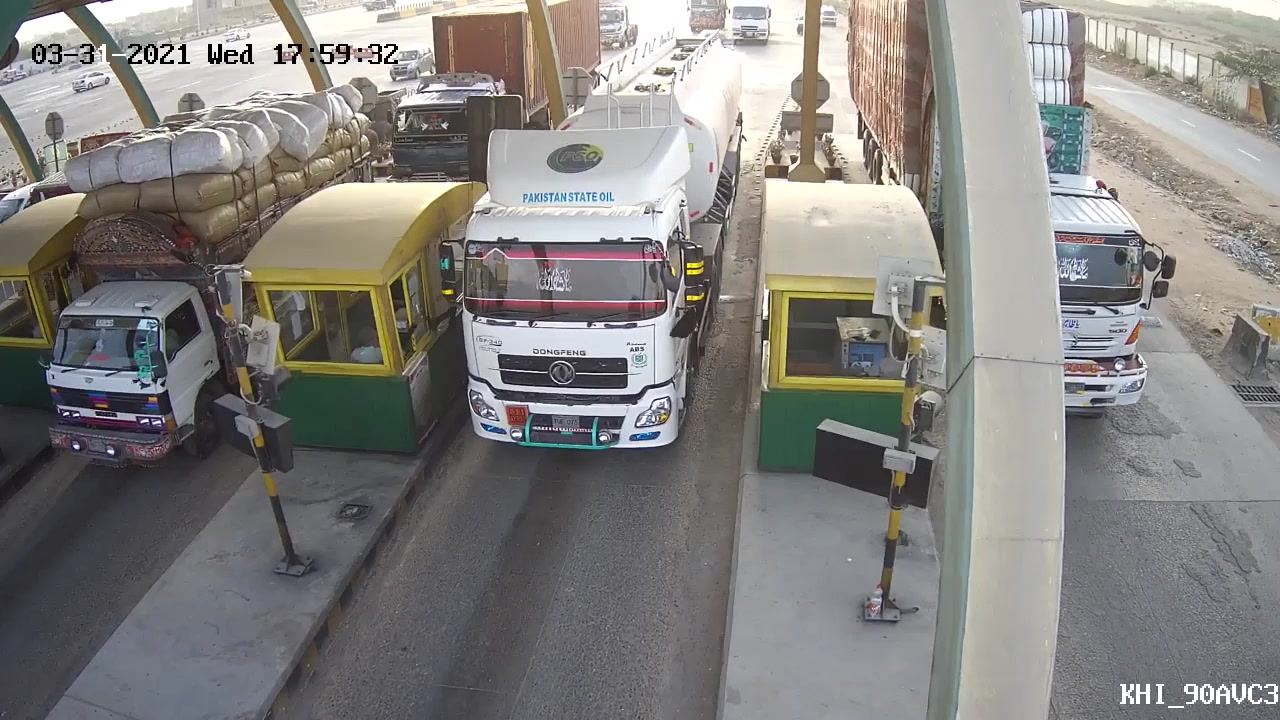F6: (456, 32, 751, 454)
